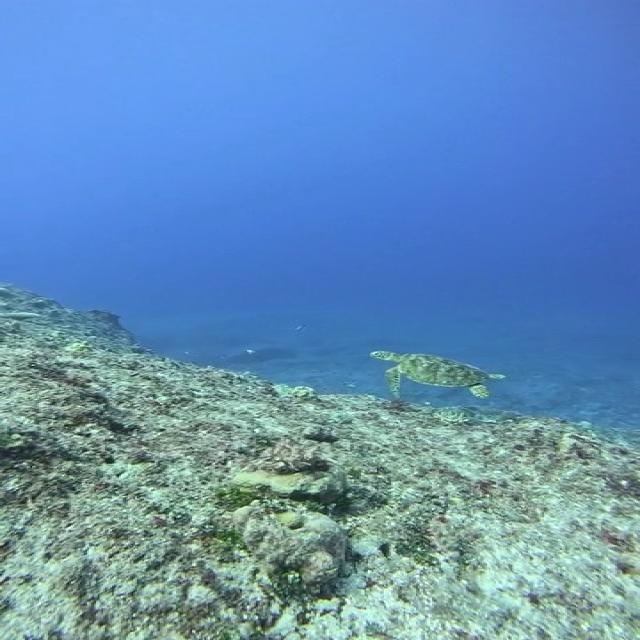turtle: (370, 350, 506, 399)
